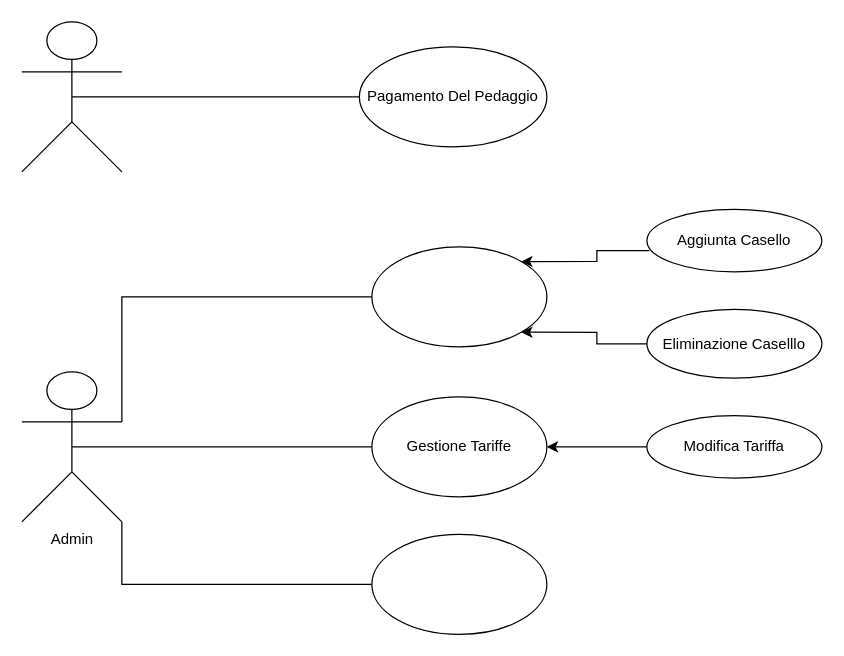
Image size: 844x656. Some labels were removed from this diagram. The centre of each missing label's shape, as x and y in pixels:
Gestione Caselli: point (459, 296)
Gestione Normative: point (459, 583)
User: point (71, 96)
